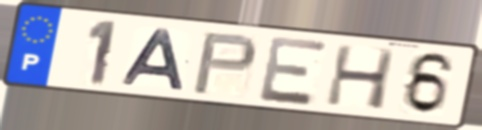1: (83, 18, 120, 88)
6: (399, 50, 455, 117)
A: (119, 28, 188, 93)
E: (257, 34, 331, 108)
H: (323, 43, 399, 112)
P: (189, 31, 260, 97)
